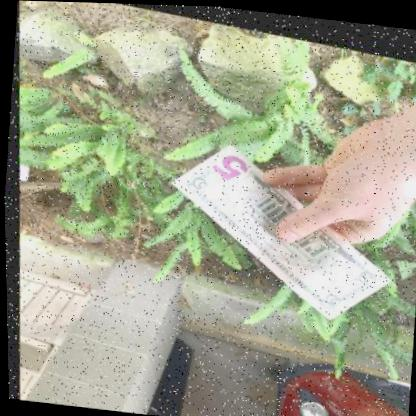dollar_back: (167, 138, 386, 311)
